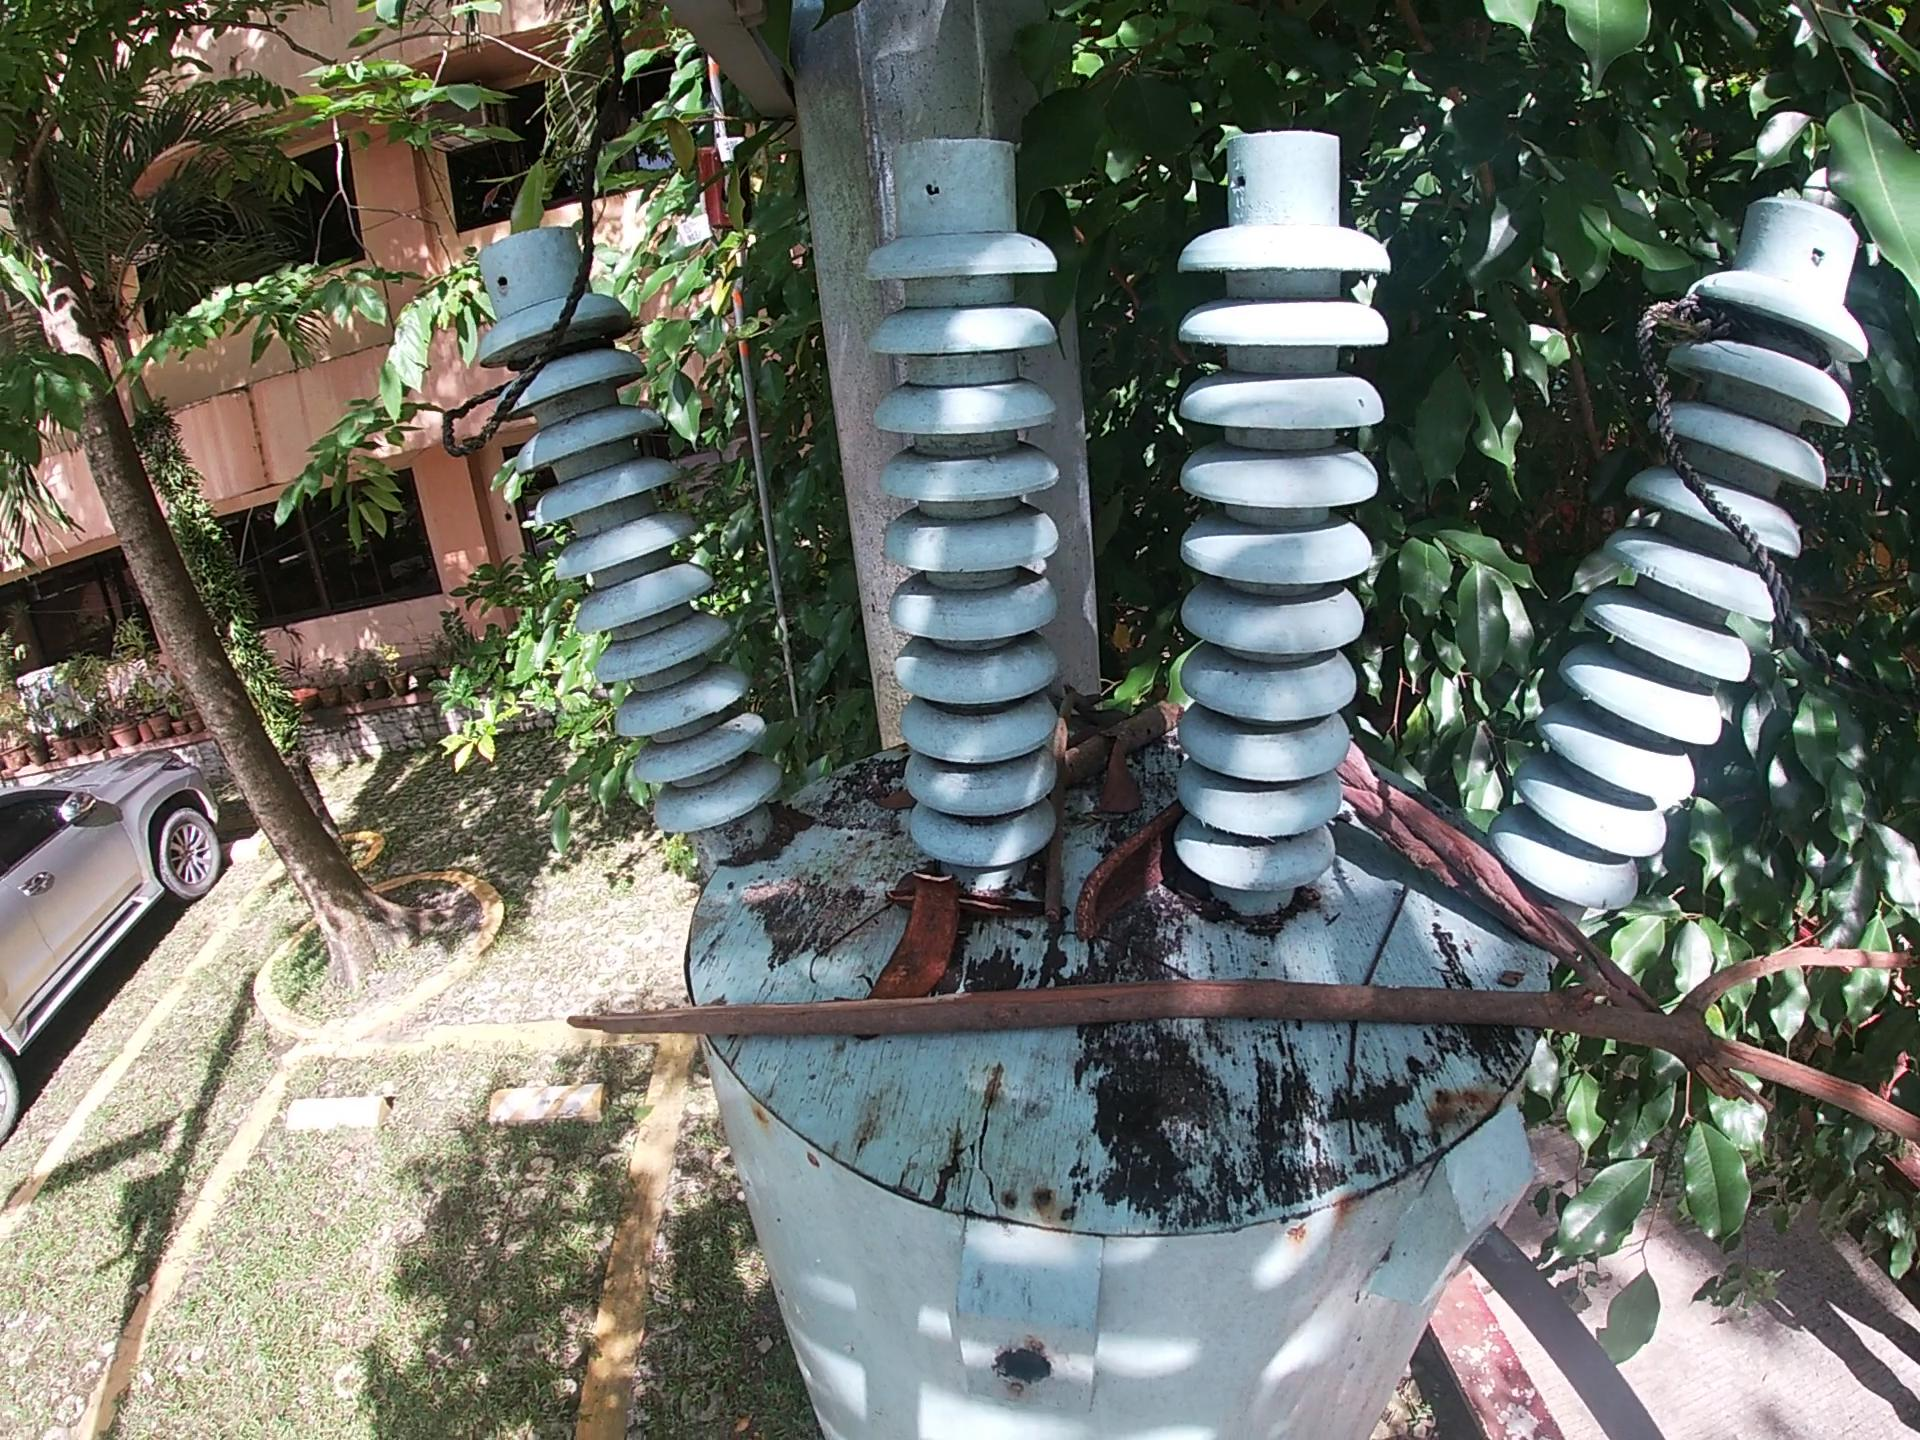leaf: (1098, 737, 1146, 814), (872, 794, 915, 815), (893, 864, 918, 895)
mahogany fruit: (1070, 800, 1184, 954)
tree branch: (506, 915, 1920, 1159), (1341, 737, 1665, 1024), (1317, 877, 1418, 1181), (1045, 685, 1113, 927), (1061, 700, 1185, 771), (1054, 935, 1202, 989), (801, 909, 880, 988), (918, 897, 1037, 921)
